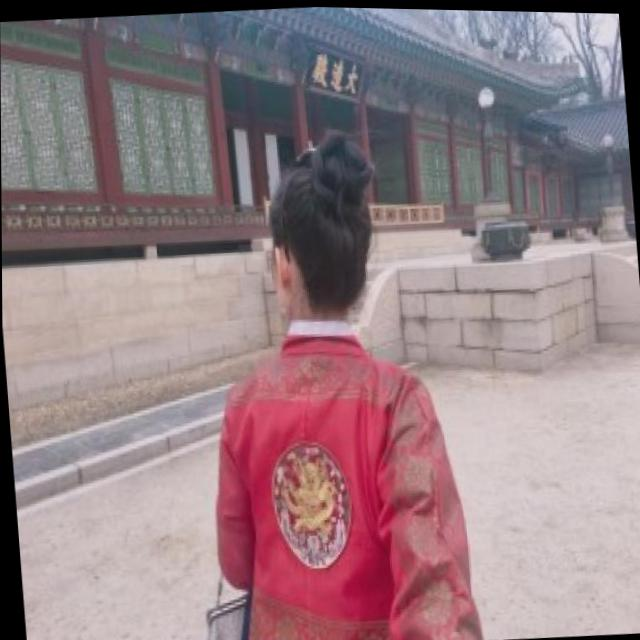no helmet: (243, 127, 403, 405)
